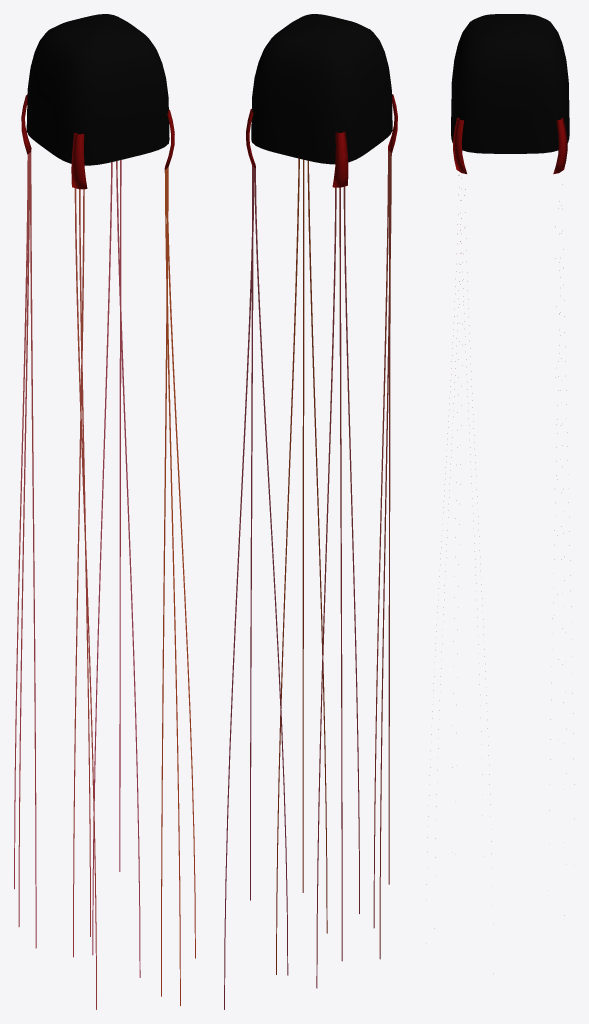
File: box_jelly_game.glb
3 renders of one model, left to right at view 1: azimuth 30°, elevation 25°; view 2: azimuth 150°, elevation 25°; view 3: azimuth 270°, elevation 25°, orthographic. The views are drawn at different scales.
Visible parts, largest first — view 1: box_jelly_game; view 2: box_jelly_game; view 3: box_jelly_game.
Part boxes in pixels (left/top/right/bottom): box_jelly_game: left=14, top=14, right=195, bottom=1009; box_jelly_game: left=224, top=14, right=397, bottom=1009; box_jelly_game: left=426, top=14, right=574, bottom=928.
Bounding box in the file's own units: 0.3216 × 2.3 × 0.3264.
